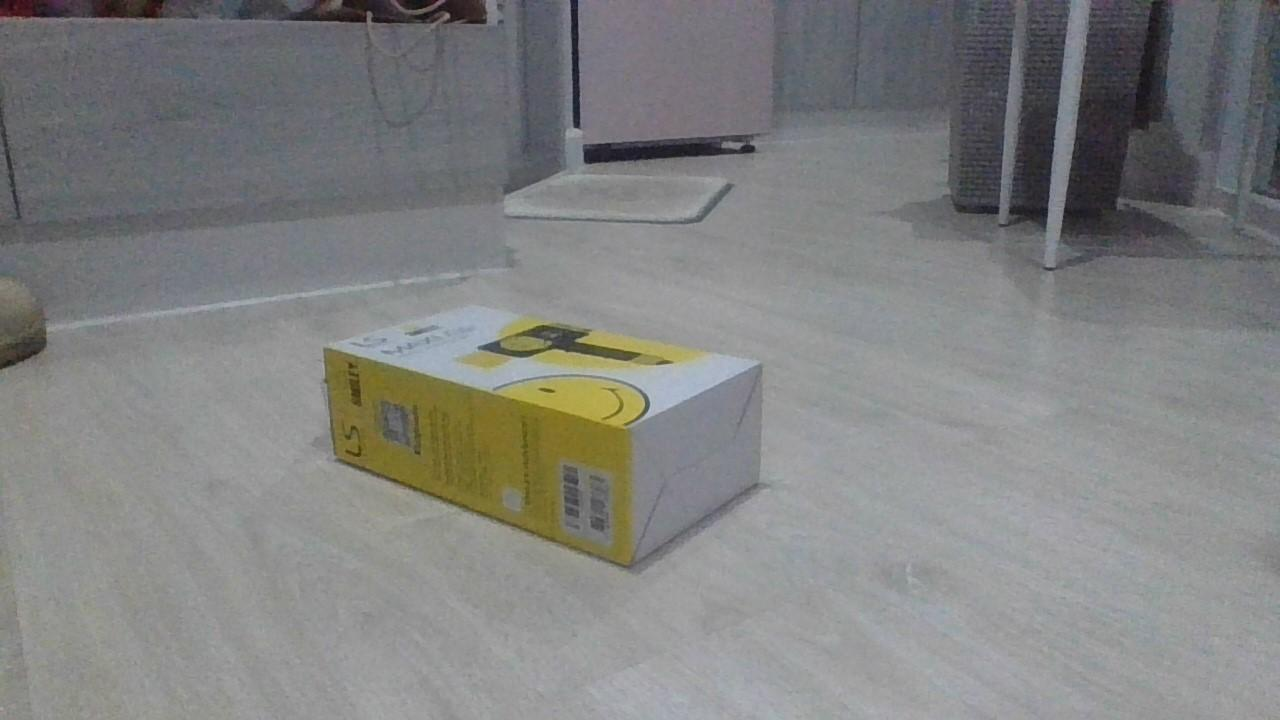Dryer: (318, 298, 768, 570)
